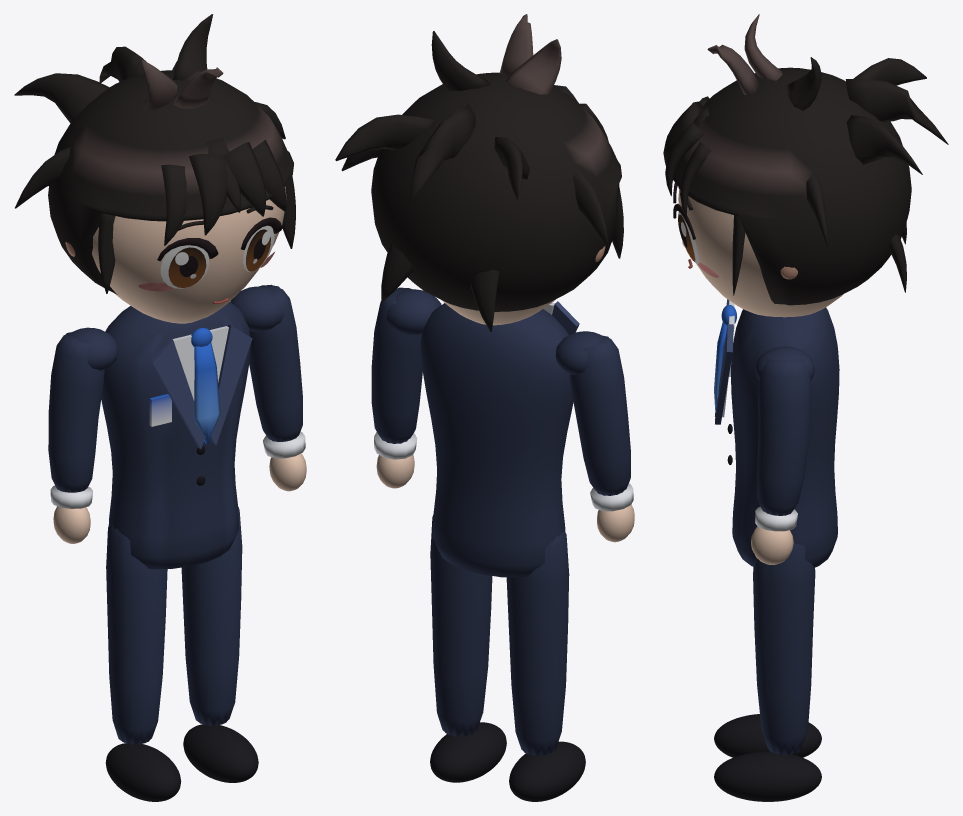
File: hero.glb
The picture shows the model from 3 angles, left to right: view 1: azimuth 30°, elevation 25°; view 2: azimuth 150°, elevation 25°; view 3: azimuth 270°, elevation 25°; orthographic projection.
Parts seen in each view (by area): view 1: hero; view 2: hero; view 3: hero.
Part boxes in pixels (x1=…): hero: x1=14, y1=14, x2=306, y2=801; hero: x1=335, y1=14, x2=634, y2=801; hero: x1=663, y1=14, x2=948, y2=801.
Bounding box in the file's own units: 0.7232 × 1.92 × 0.6644.
